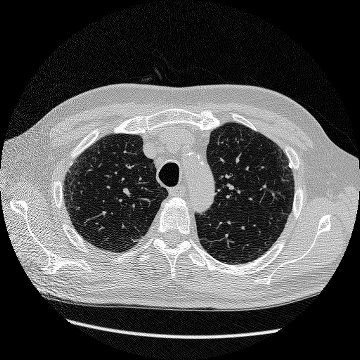nodule: (288, 163, 292, 167)
